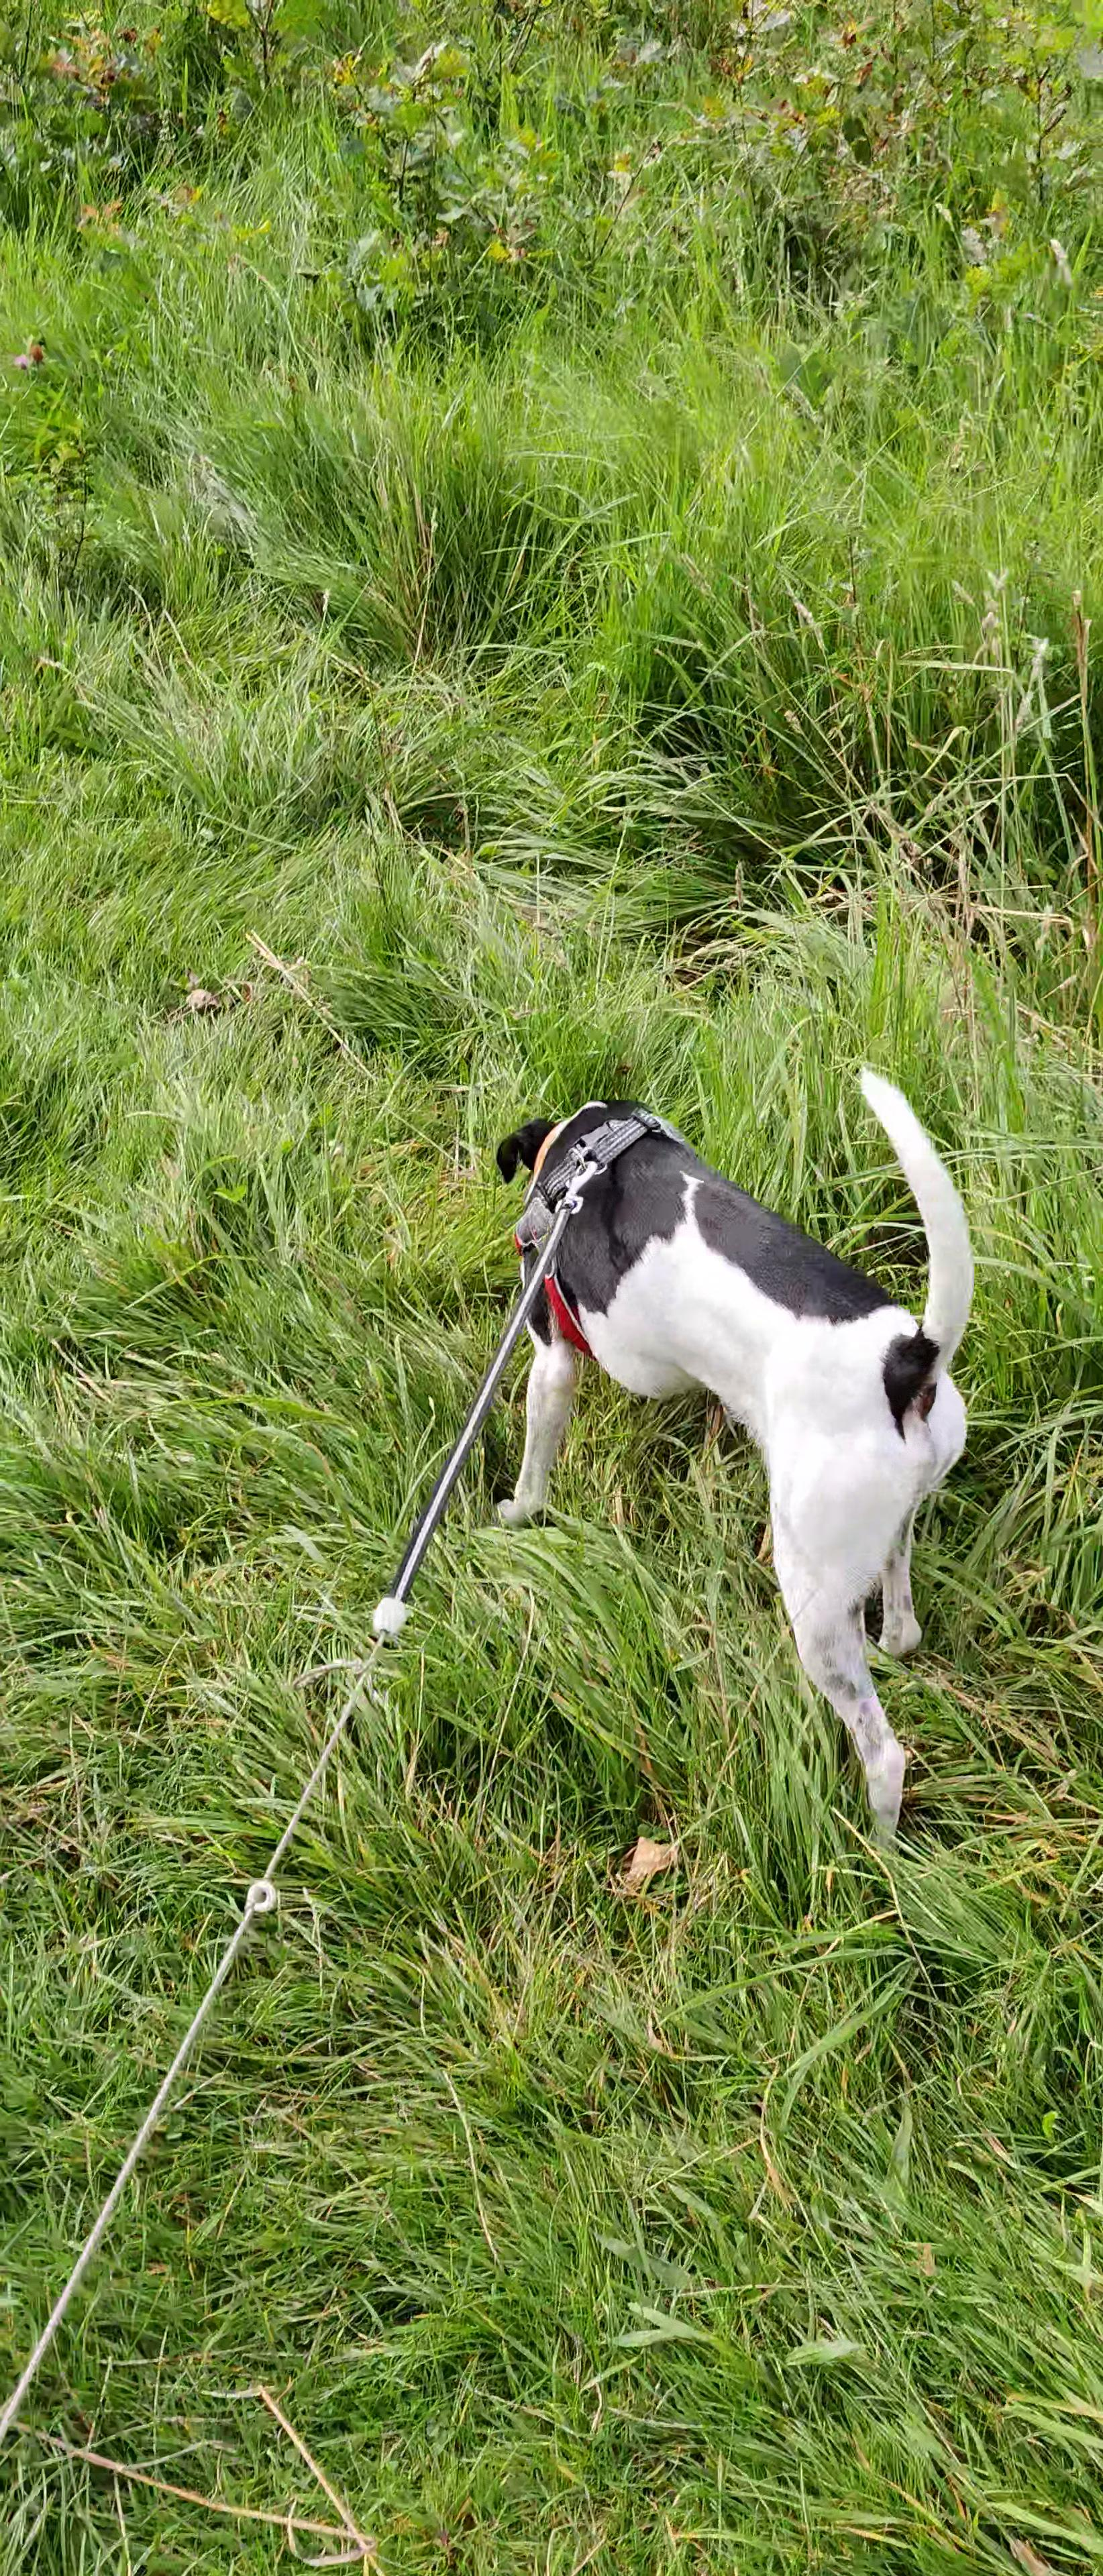Dog: (480, 1040, 983, 1848)
